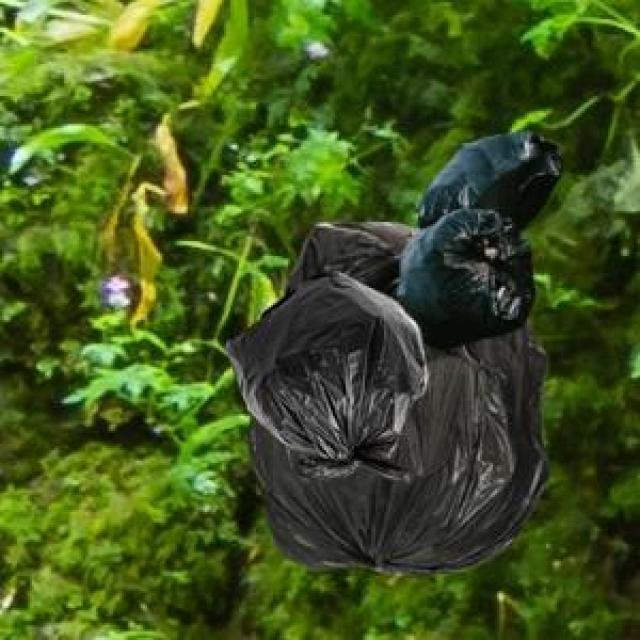Trashbag: (224, 270, 431, 466), (393, 213, 540, 349), (412, 126, 569, 233)
